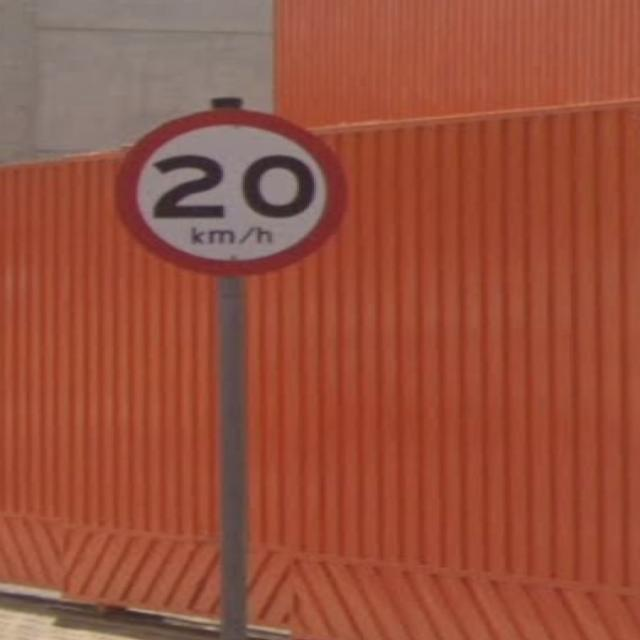speed limit: (84, 78, 378, 296)
